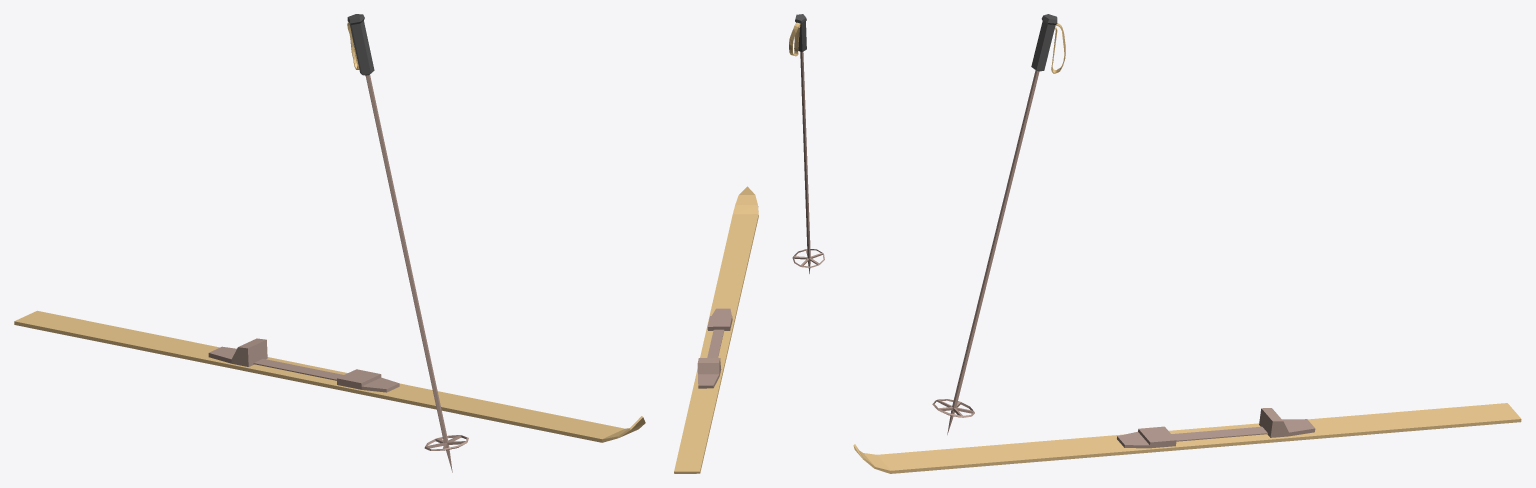
Rendered from skis.glb.
3 renders of one model, left to right at view 1: azimuth 30°, elevation 25°; view 2: azimuth 150°, elevation 25°; view 3: azimuth 270°, elevation 25°, orthographic. The views are drawn at different scales.
Parts seen in each view (by area): view 1: group915994952, group1189042932; view 2: group915994952, group1189042932, group700172888; view 3: group915994952, group1189042932.
Boxes of the visible parts, <box> form: group915994952: <box>14,310,645,442</box>; group1189042932: <box>347,14,468,472</box>; group915994952: <box>674,186,758,473</box>; group1189042932: <box>792,14,824,273</box>; group700172888: <box>789,22,800,56</box>; group915994952: <box>853,403,1521,473</box>; group1189042932: <box>932,14,1057,434</box>.
Bounding box in the file's own units: 2.98 × 4.62 × 6.39.
